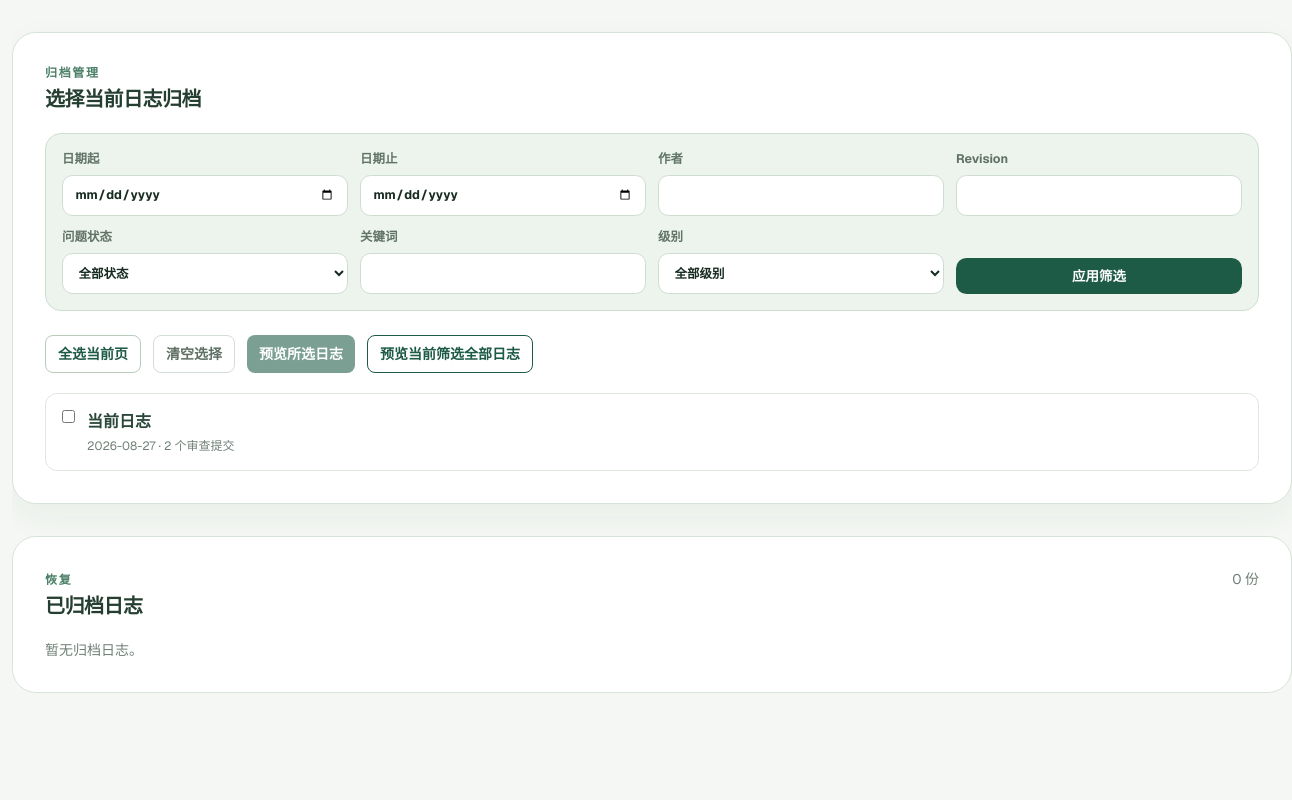
it: 归档库与归档管理 UI › 按当前筛选预览时发送筛选条件并展示服务端总数
Type "alice" into the field named "按作者筛选活动日志" at (801, 195), box [658, 175, 944, 216]
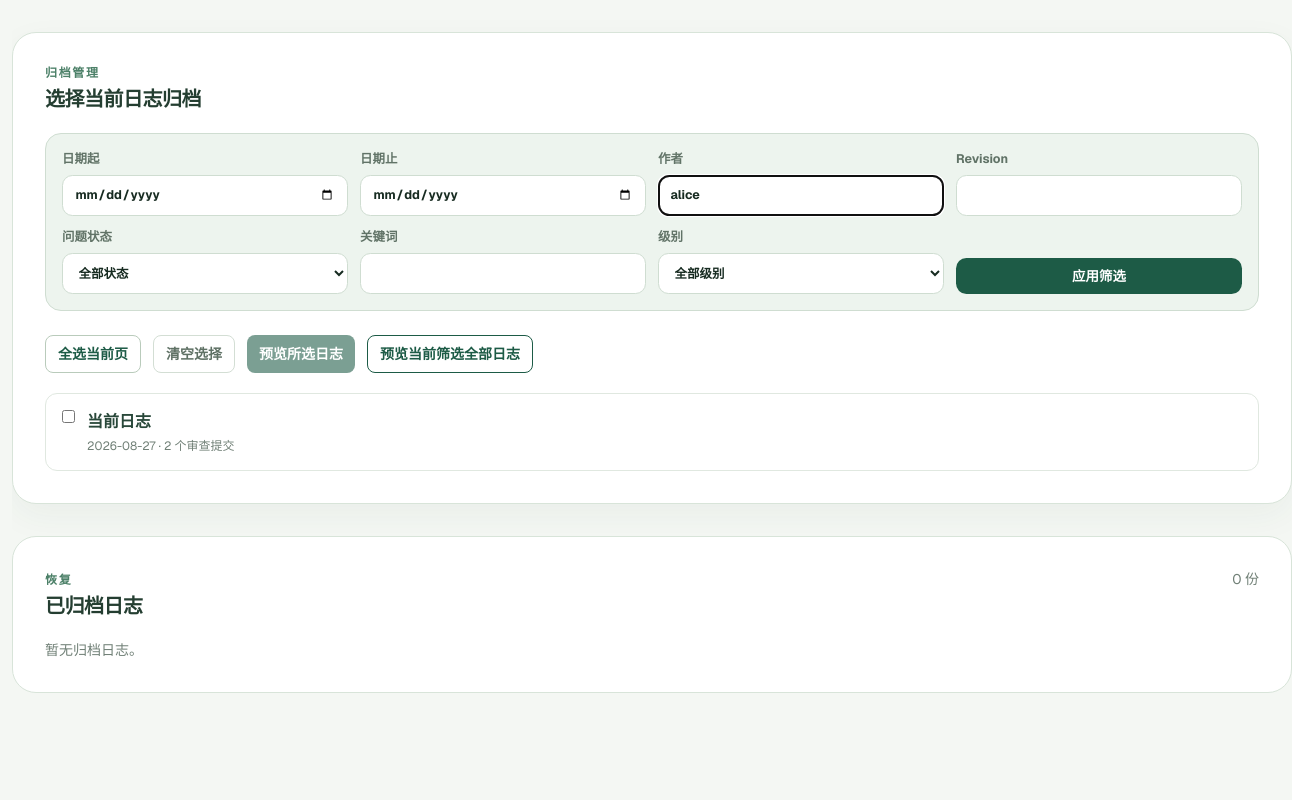
Select "待处理" in the dropdown named "按问题状态筛选活动日志" at (205, 274), box [62, 253, 348, 294]
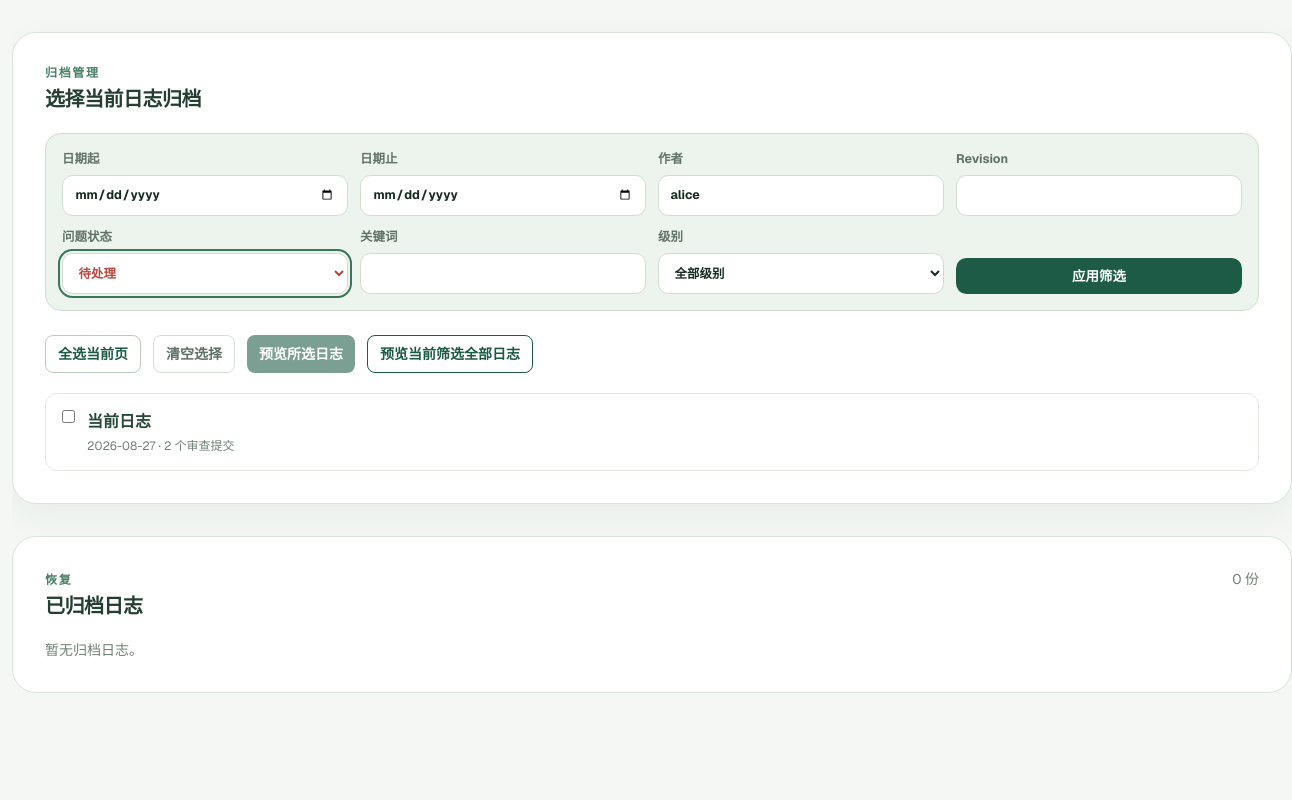
Click the button "应用筛选" at (1099, 276), box [956, 258, 1242, 294]
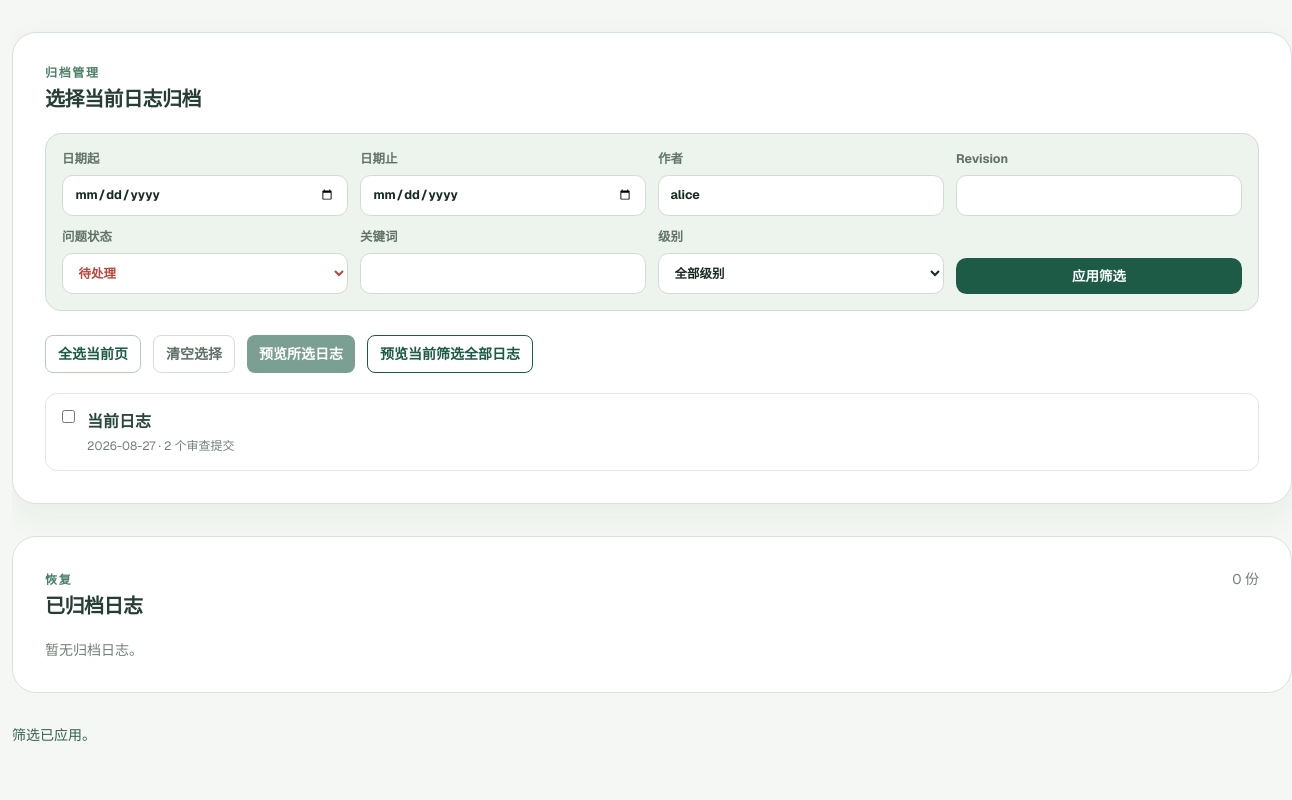
Click the button "预览当前筛选全部日志" at (450, 354), box [367, 335, 533, 373]
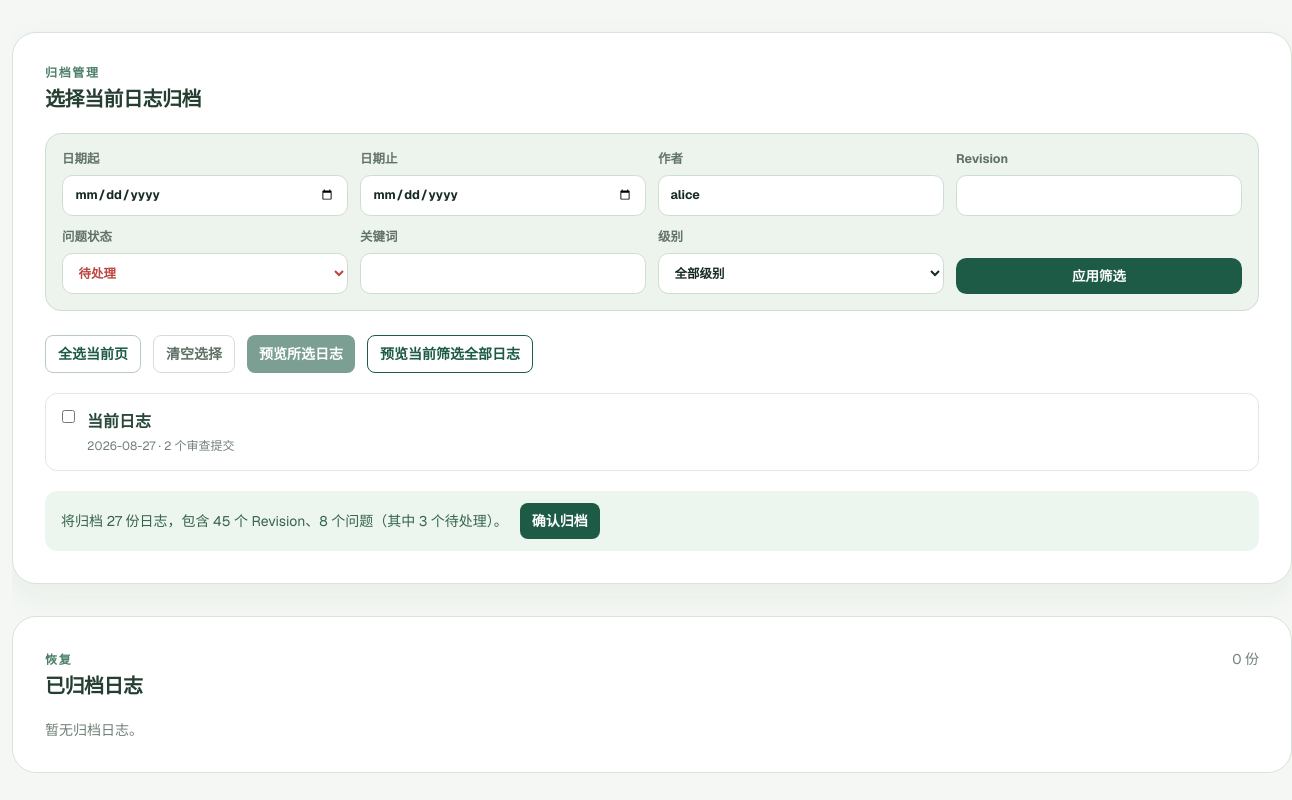
Result: the text "将归档 27 份日志，包含 45 个 Revision、8 个问题（其中 3 个待处理）。 确认归档" is shown at [45, 491, 1259, 551]
